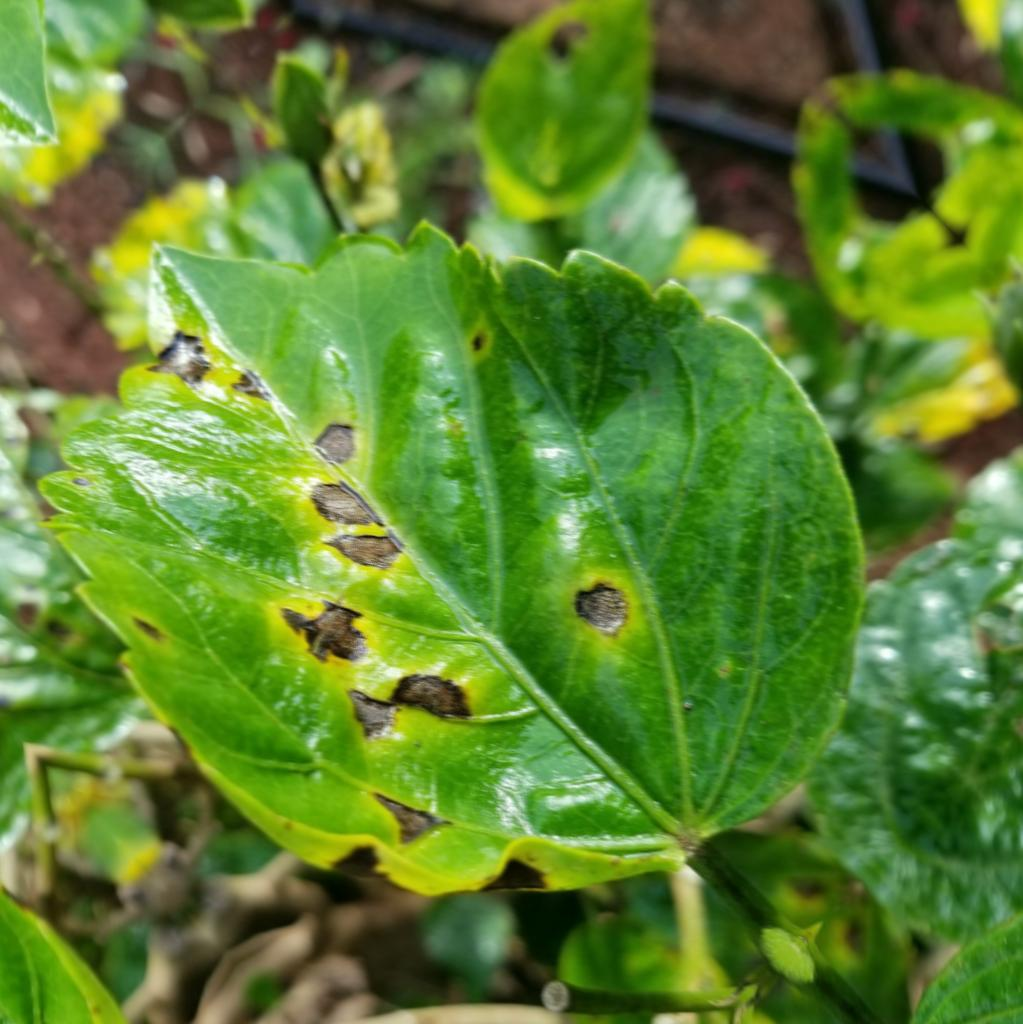Tomato leaf bacterial spot: (0, 0, 1007, 1024)
